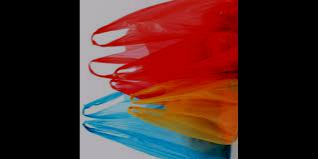Plastic: (83, 75, 238, 158), (85, 0, 238, 84), (110, 27, 238, 104), (124, 72, 238, 142)
